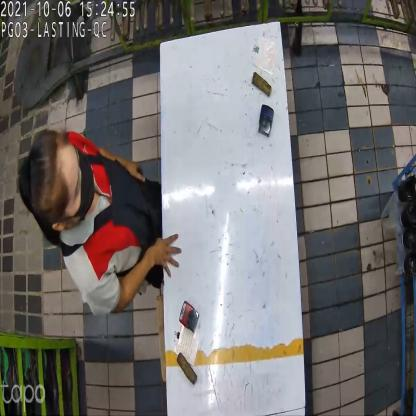stamp: (256, 106, 277, 142), (180, 297, 198, 330)
